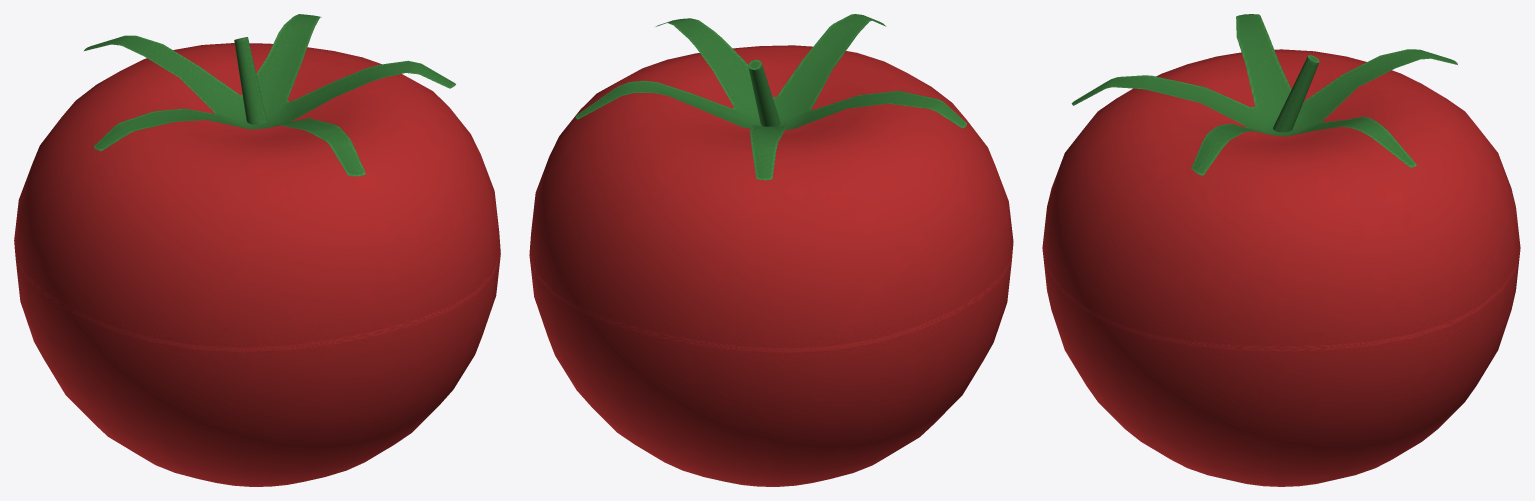
File: Tomato.gltf
3 renders of one model, left to right at view 1: azimuth 30°, elevation 25°; view 2: azimuth 150°, elevation 25°; view 3: azimuth 270°, elevation 25°, orthographic. The views are drawn at different scales.
Parts seen in each view (by area): view 1: Tomato; view 2: Tomato; view 3: Tomato.
Part boxes in pixels (bbox=[...]): Tomato: bbox=[14, 14, 500, 486]; Tomato: bbox=[529, 14, 1013, 486]; Tomato: bbox=[1042, 14, 1520, 486].
Size of the model in its own units: 2.35 by 2.22 by 2.35.
Materials: 1 (1 with a texture image).
